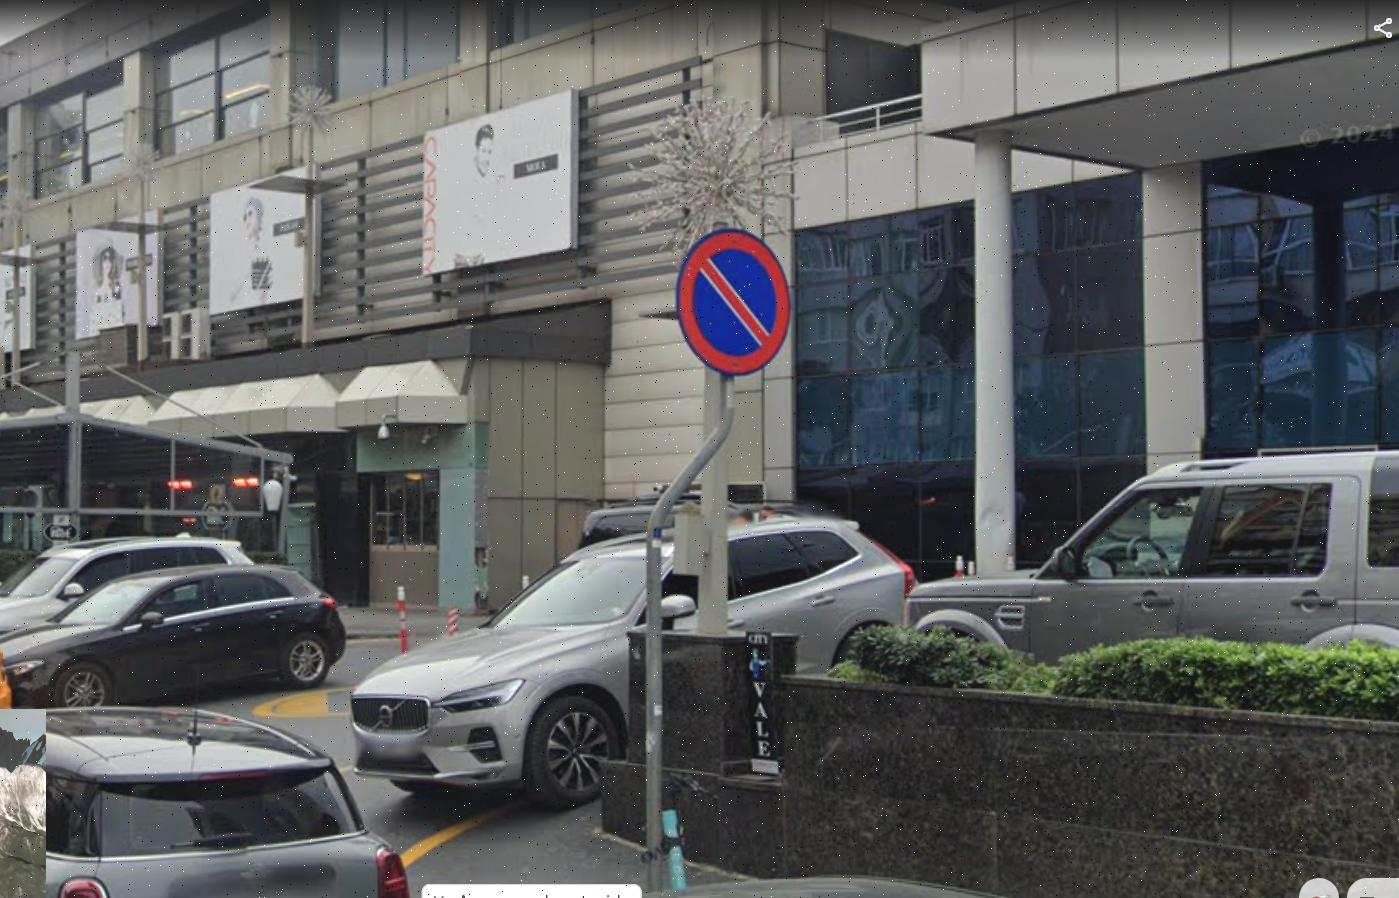nopark: (683, 231, 786, 373)
